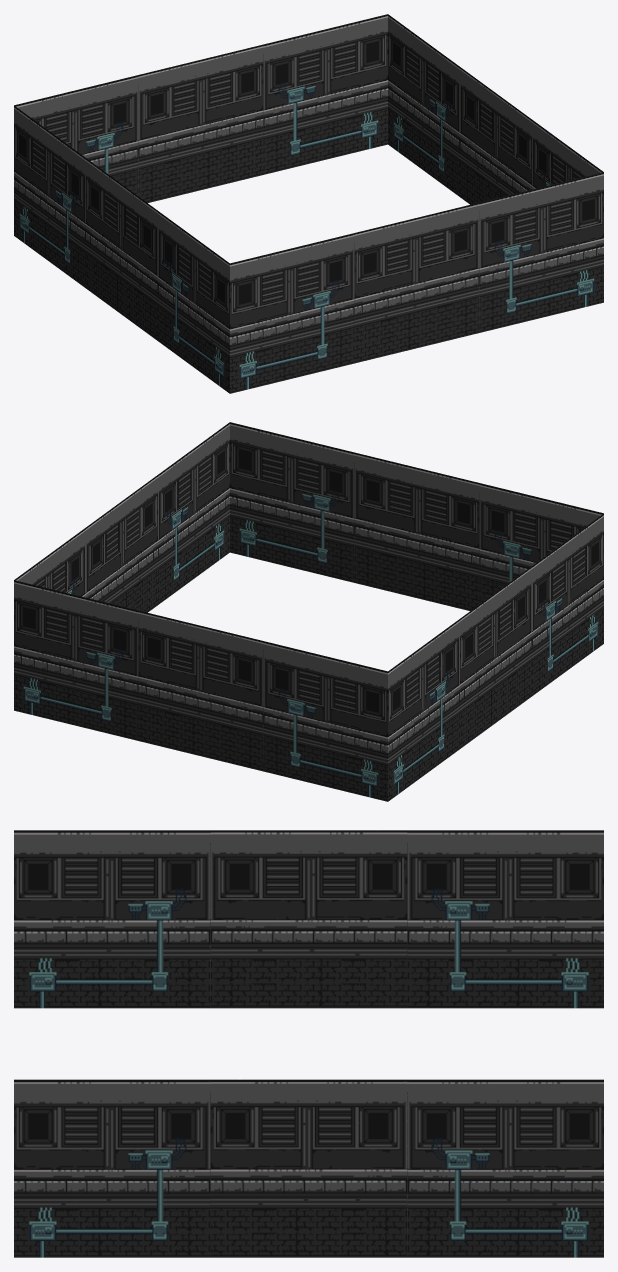
File: top_5.FBX
3 views of the same model, one above another, from view 1: azimuth 30°, elevation 25°; view 2: azimuth 150°, elevation 25°; view 3: azimuth 270°, elevation 25° (orthographic). The views are drawn at different scales.
Parts seen in each view (by area): view 1: gry_top; view 2: gry_top; view 3: gry_top.
Part boxes in pixels (<box>): gry_top: <box>14,14,603,393</box>; gry_top: <box>14,422,603,801</box>; gry_top: <box>14,830,603,1257</box>.
Size of the model in its own units: 147 by 49.08 by 147.
1 material, 1 textured.
